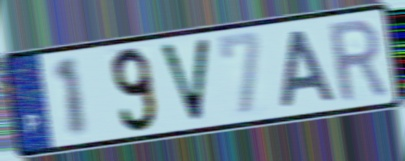1: (53, 53, 90, 142)
7: (215, 27, 269, 121)
9: (109, 45, 160, 134)
A: (278, 27, 338, 111)
R: (325, 15, 391, 106)
V: (156, 36, 213, 126)
